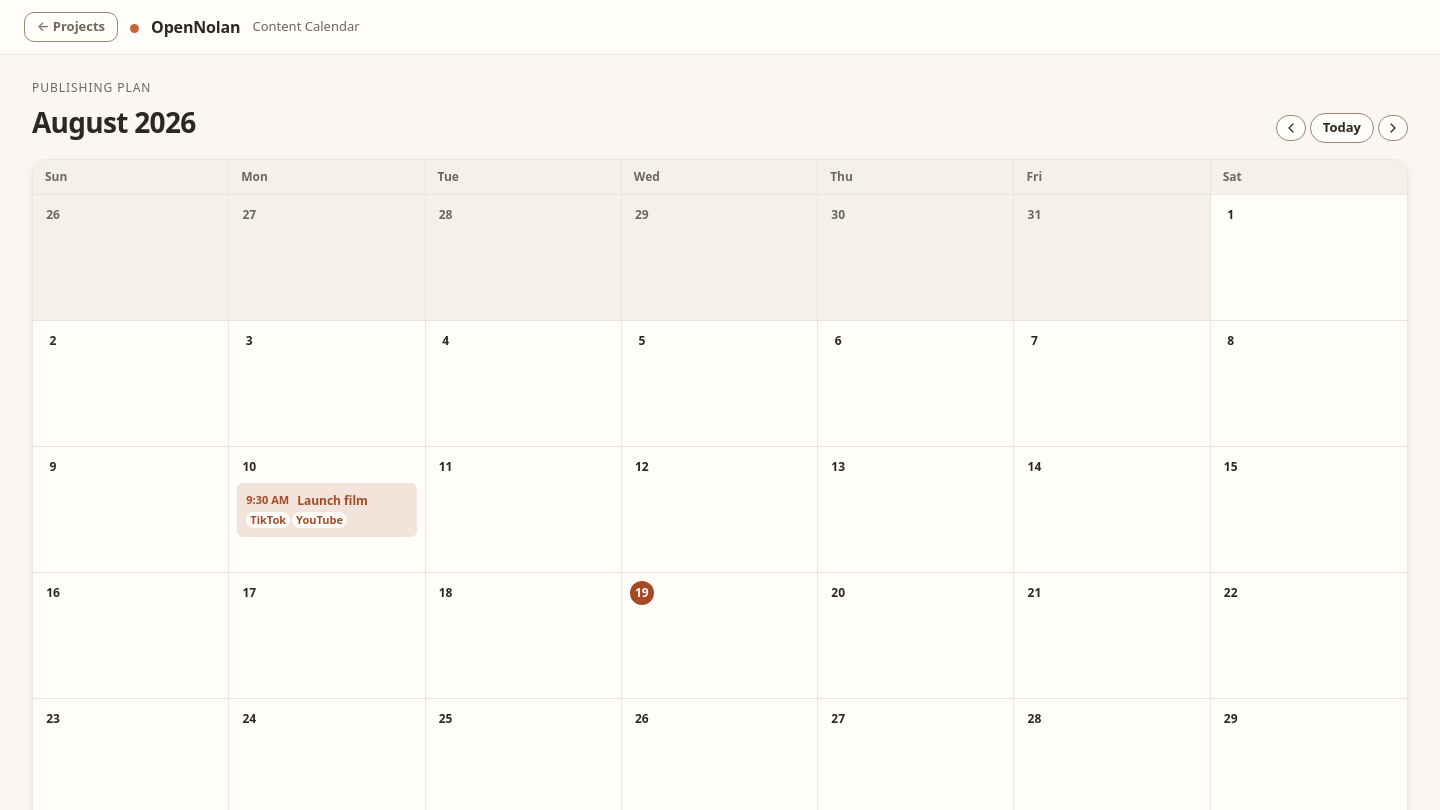
it: Content Calendar › shows multi-channel entries and opens the shared video lightbox
Click the button "9:30 AM Launch film TikTok YouTube": [327, 510] box [237,482,417,537]
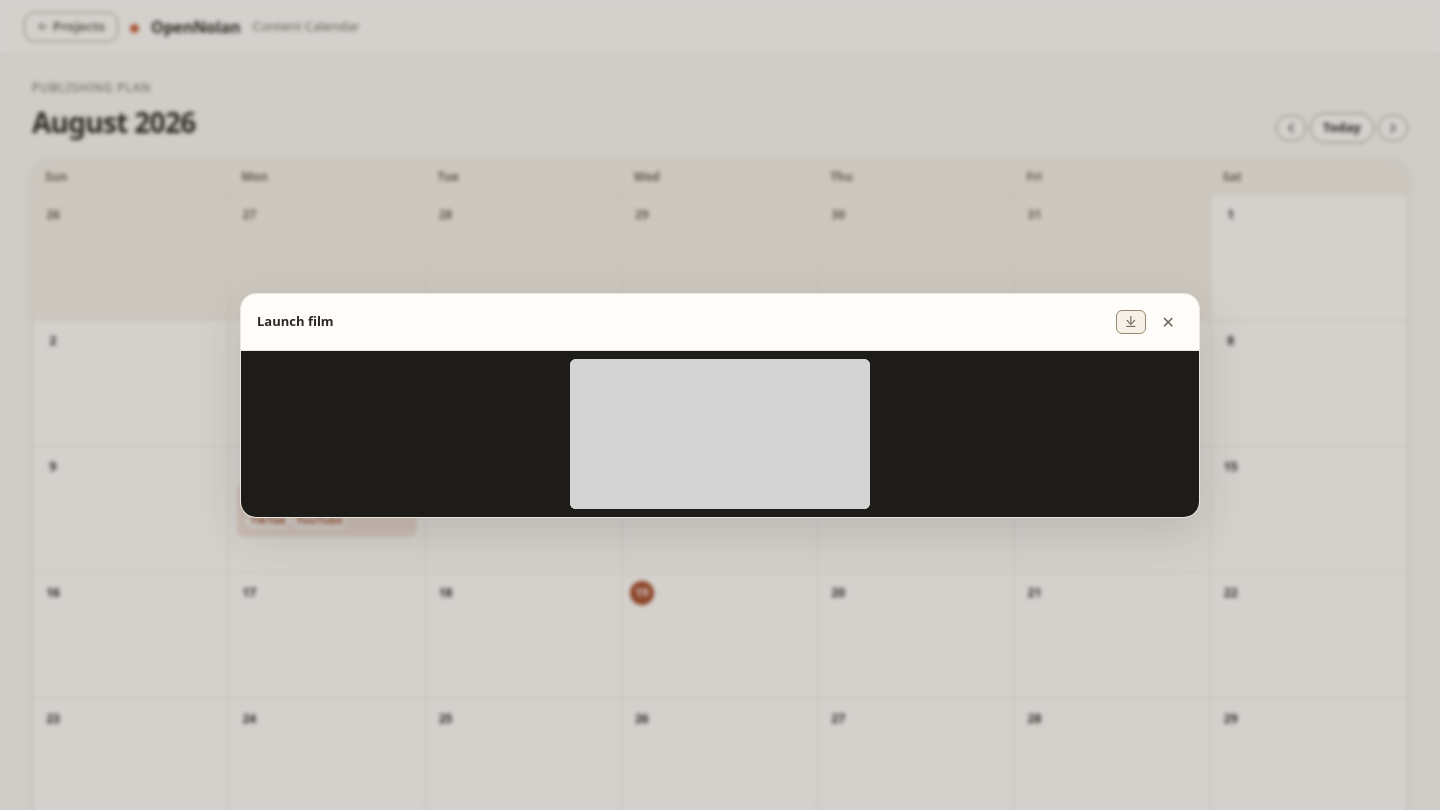
Expected: the button titled "Close (Esc)" is shown, [1154,306,1183,338]
